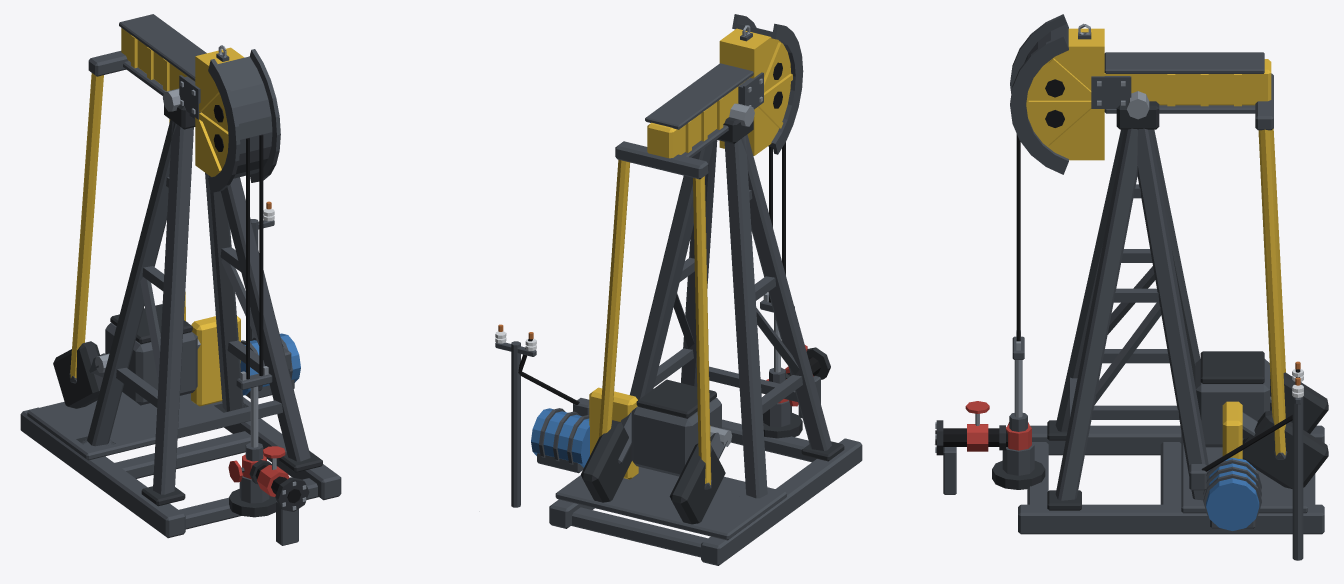
Rendered from chevalet_t2.glb.
3 renders of one model, left to right at view 1: azimuth 30°, elevation 25°; view 2: azimuth 150°, elevation 25°; view 3: azimuth 270°, elevation 25°, orthographic. The views are drawn at different scales.
Parts seen in each view (by area): view 1: pieces_acier_sombre.008, balancier_acier_sombre.002, platine.002, bielle_jaune.002, reducteur.002, balancier_chapeau.002, balancier_tete.002, tige_noir.002, carter.002, manivelle_fonte.002, balancier_jaune.002, pieces_fonte.007 (+8 smaller); view 2: pieces_acier_sombre.008, bielle_jaune.002, platine.002, manivelle_fonte.002, reducteur.002, balancier_tete.002, balancier_acier_sombre.002, balancier_chapeau.002, moteur.004, balancier_poutre.002, reducteur_capot.002, balancier_palonnier.002 (+8 smaller); view 3: pieces_acier_sombre.008, balancier_tete.002, balancier_acier_sombre.002, bielle_jaune.002, manivelle_fonte.002, balancier_poutre.002, balancier_chapeau.002, reducteur.002, moteur.004, balancier_jaune.002, platine.002, reducteur_capot.002 (+14 smaller).
Boxes of the visible parts, x1,y1,x2,y2 form: pieces_acier_sombre.008: (20, 120, 341, 545); balancier_acier_sombre.002: (179, 49, 280, 192); platine.002: (27, 392, 262, 460); bielle_jaune.002: (70, 73, 185, 379); reducteur.002: (105, 322, 197, 405); balancier_chapeau.002: (119, 14, 206, 81); balancier_tete.002: (195, 47, 244, 176); tige_noir.002: (246, 134, 263, 379); carter.002: (191, 316, 240, 406); manivelle_fonte.002: (53, 321, 187, 408); balancier_jaune.002: (131, 35, 228, 173); pieces_fonte.007: (76, 403, 322, 506); pieces_acier_sombre.008: (495, 134, 862, 565); bielle_jaune.002: (599, 159, 711, 484); platine.002: (555, 467, 786, 540); manivelle_fonte.002: (581, 420, 725, 524); reducteur.002: (631, 398, 721, 476); balancier_tete.002: (719, 28, 791, 155); balancier_acier_sombre.002: (732, 14, 803, 154); balancier_chapeau.002: (645, 63, 753, 129); moteur.004: (531, 408, 589, 467); balancier_poutre.002: (647, 78, 749, 158); reducteur_capot.002: (636, 379, 716, 418); balancier_palonnier.002: (615, 141, 708, 179); pieces_acier_sombre.008: (943, 128, 1324, 560); balancier_tete.002: (1026, 28, 1104, 160); balancier_acier_sombre.002: (1010, 14, 1131, 174); bielle_jaune.002: (1258, 129, 1285, 455); manivelle_fonte.002: (1242, 372, 1328, 488); balancier_poutre.002: (1104, 59, 1271, 105); balancier_chapeau.002: (1104, 52, 1264, 73); reducteur.002: (1195, 359, 1269, 447); moteur.004: (1206, 457, 1259, 530); balancier_jaune.002: (1028, 58, 1241, 150); platine.002: (1181, 432, 1307, 513); reducteur_capot.002: (1200, 351, 1264, 383).
Size of the model in its own units: 1.5 by 2.61 by 2.
